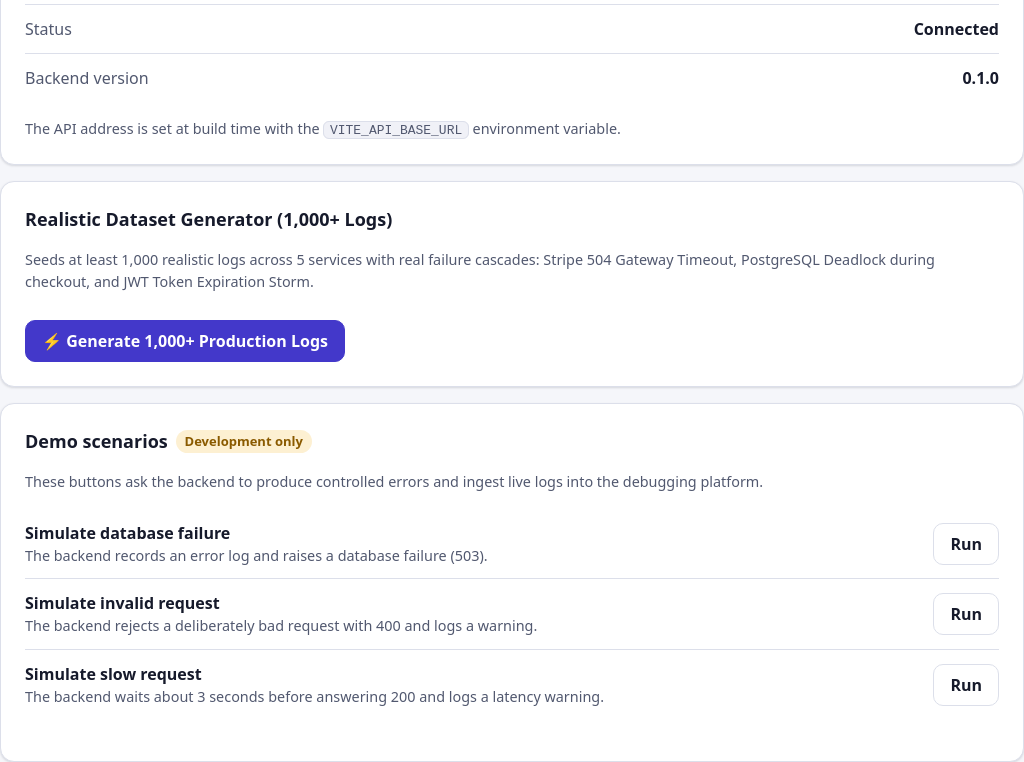
it: Settings page › runs a demo scenario and shows the backend response
(page scrolled)
Step 1. Click the button with aria-label "Run: Simulate invalid request" → (966, 614), box [933, 593, 999, 635]
(page scrolled)
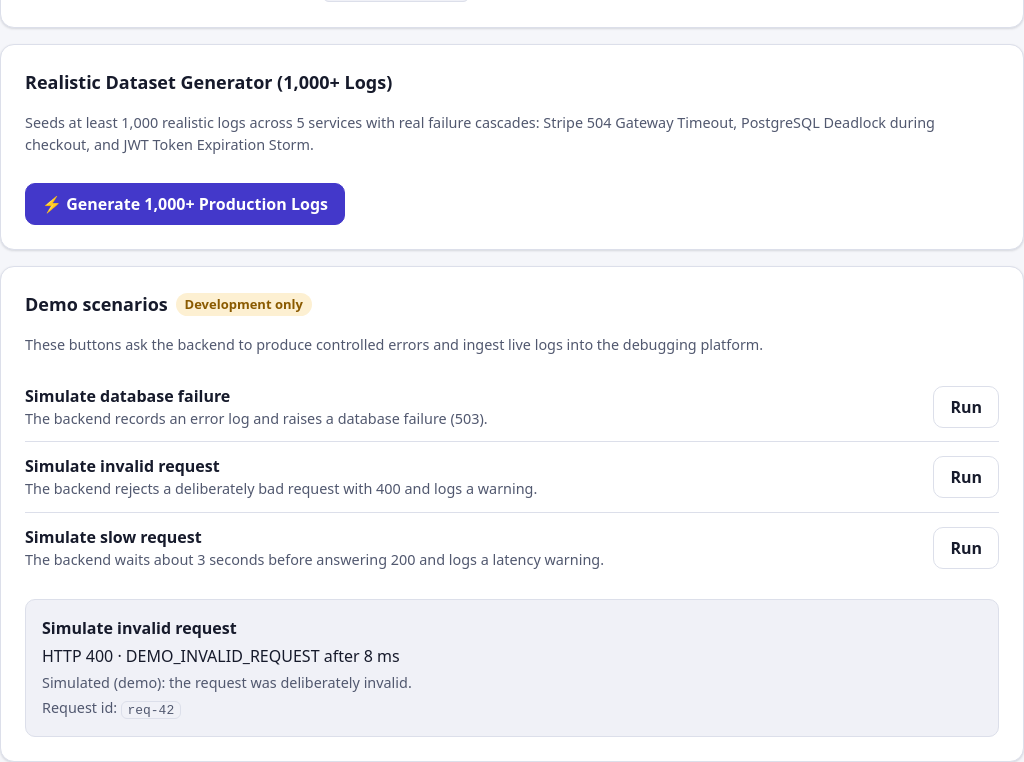
Check: the text "HTTP 400 · DEMO_INVALID_REQUEST after 8 ms" is shown, box [42, 645, 400, 667]
Check: the text "req-42" is shown, box [121, 700, 181, 719]
